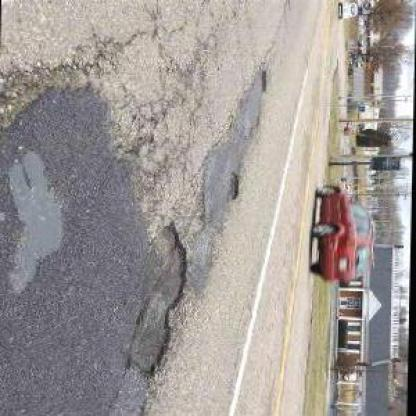pothole: (124, 220, 188, 382), (226, 170, 243, 199), (260, 68, 270, 93)
